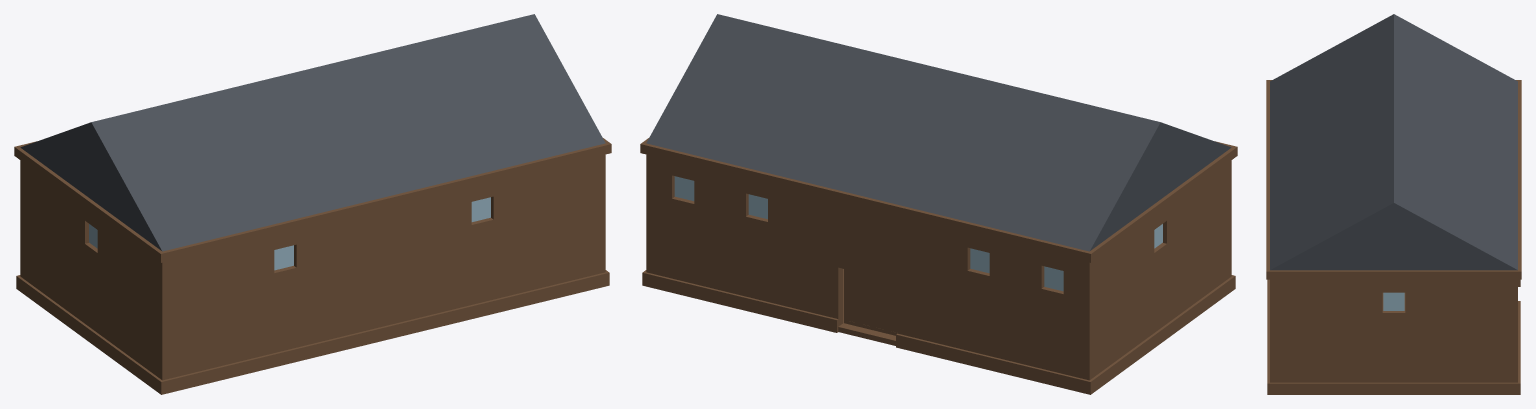
The picture shows the model from 3 angles, left to right: view 1: azimuth 30°, elevation 25°; view 2: azimuth 150°, elevation 25°; view 3: azimuth 270°, elevation 25°; orthographic projection. The views are drawn at different scales.
Parts seen in each view (by area): view 1: roof_slate, body_timber, trim_timber; view 2: roof_slate, body_timber, trim_timber, door_timber; view 3: roof_slate, body_timber, trim_timber, glass_glass.
Boxes of the visible parts, bbox=[...] form: roof_slate: bbox=[20, 14, 605, 251]; body_timber: bbox=[20, 154, 605, 380]; trim_timber: bbox=[14, 138, 611, 394]; roof_slate: bbox=[646, 14, 1231, 251]; body_timber: bbox=[646, 154, 1231, 380]; trim_timber: bbox=[640, 138, 1237, 394]; door_timber: bbox=[844, 269, 897, 335]; roof_slate: bbox=[1270, 14, 1517, 270]; body_timber: bbox=[1270, 279, 1517, 382]; trim_timber: bbox=[1266, 80, 1521, 394]; glass_glass: bbox=[1383, 292, 1404, 310].
Size of what is drawn, in the model's own units: 18.3 by 8.5 by 10.3.
